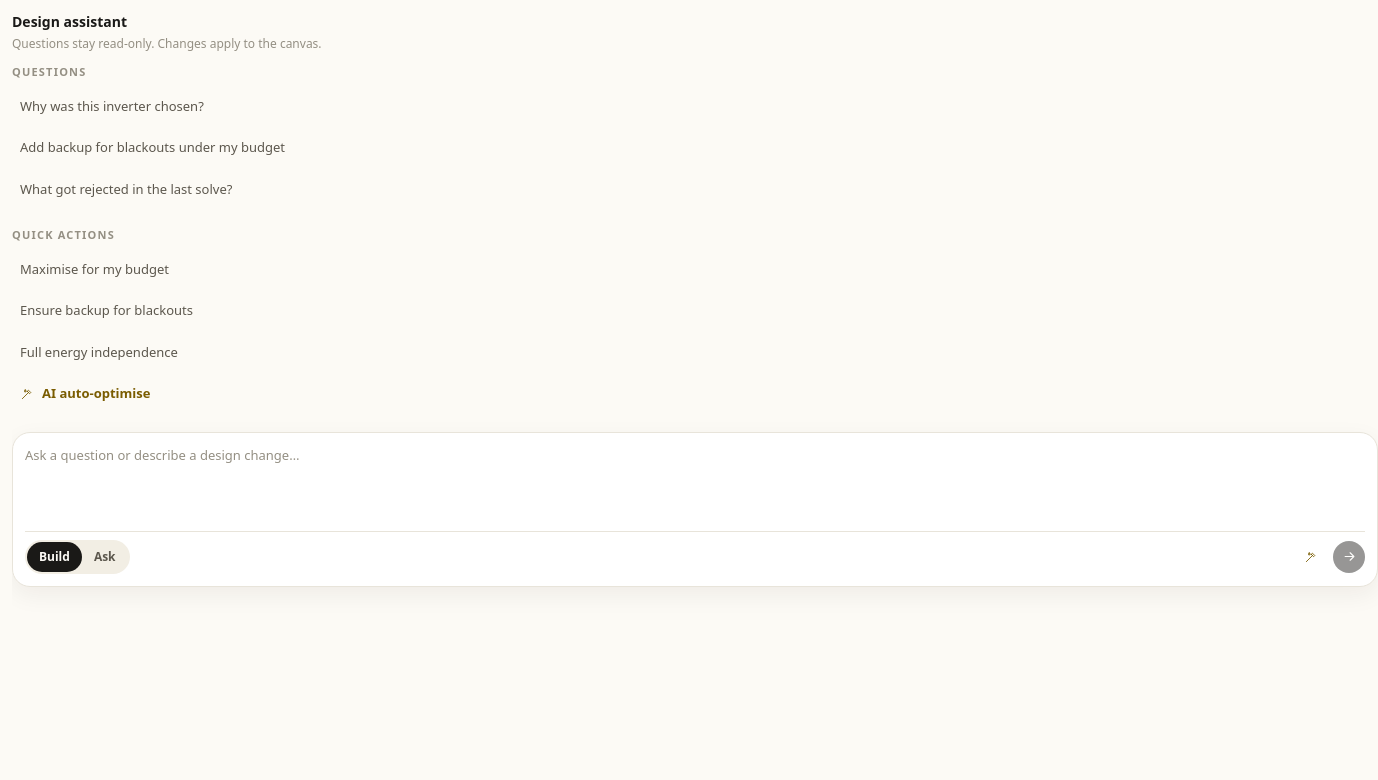
DesignChat › answers questions in build mode without applying changes
Type "Why this inverter?" into the text box named "Design assistant message". click: (695,480)
box: [25,444,1365,516]
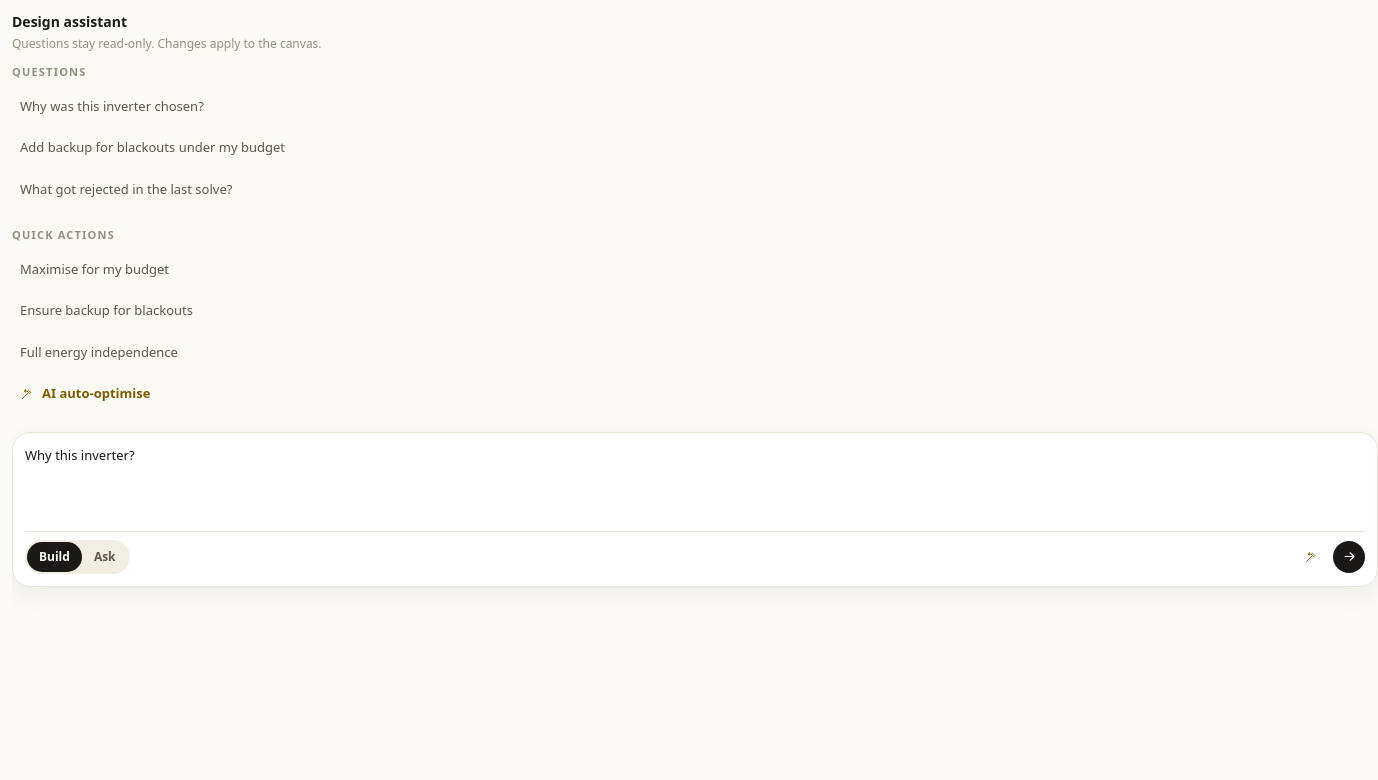
Click the button named "Send message". click: (1349,556)
box: [1333,540,1365,572]
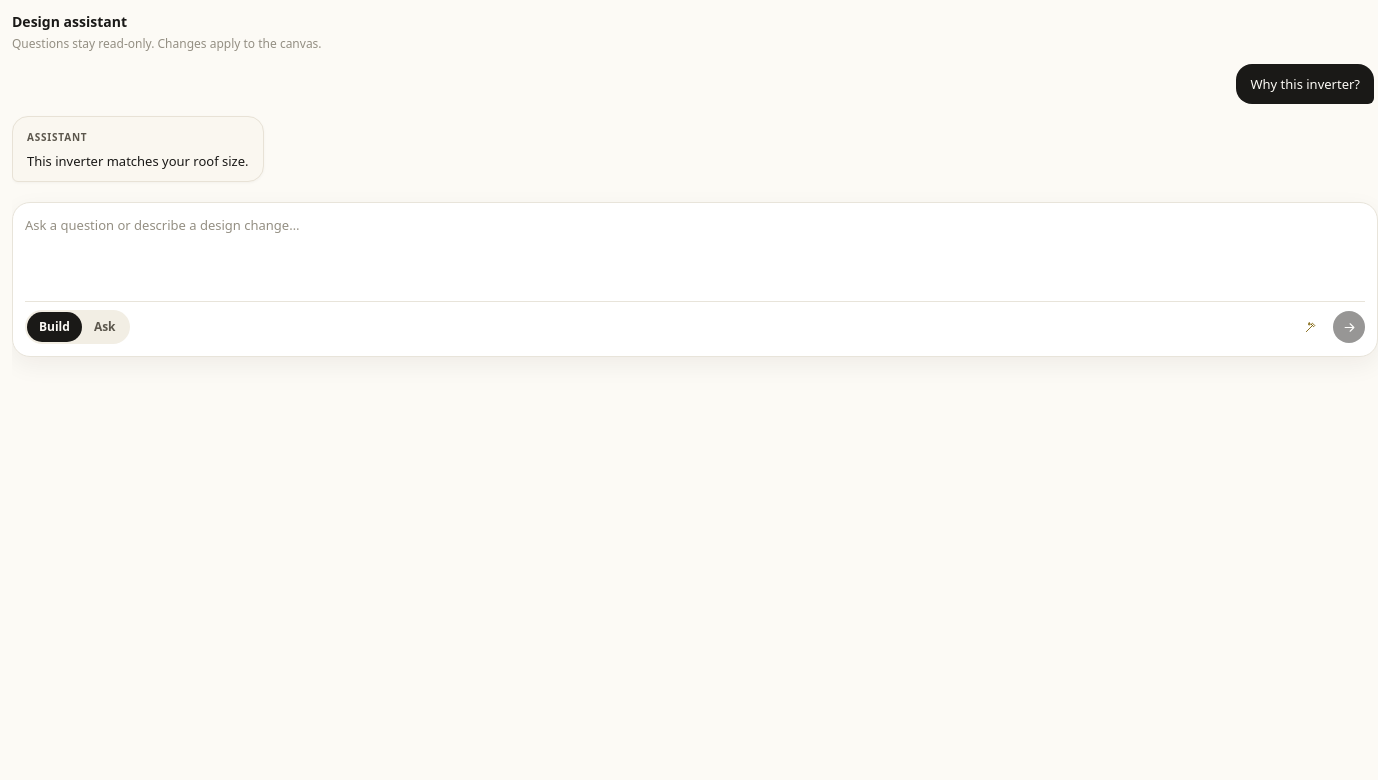
Expected: the text "This inverter matches your roof size." is shown, [27,151,248,171]
